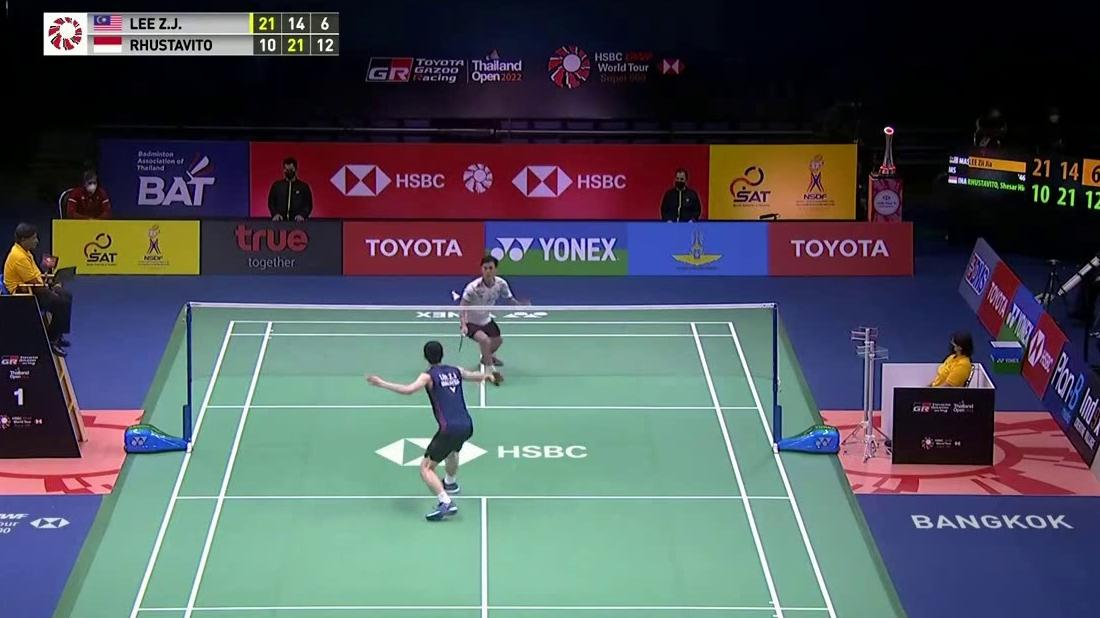racket: (463, 362, 504, 381), (456, 327, 470, 354)
shuttle: (450, 289, 462, 303)
